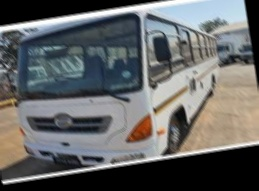bus: (3, 0, 237, 177)
